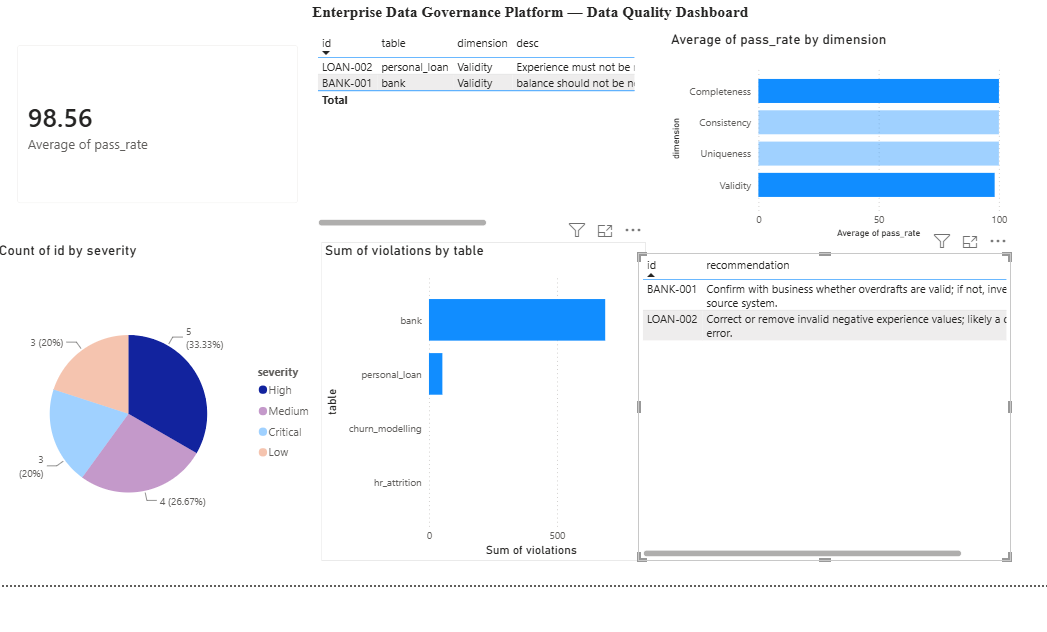

This screenshot's page, from the dashboard's own definition file:
{"tool":"powerbi","page":{"name":"Page 1","canvas":[1280,720],"ordinal":0},"visuals":[{"type":"cardVisual","fields":{"Data":["Avg(public quality_findings.pass_rate)"]},"box":[10.3,47.6,375.3,226.2],"z":0},{"type":"clusteredBarChart","fields":{"Category":["public quality_findings.dimension"],"Y":["Avg(public quality_findings.pass_rate)"]},"box":[814.8,47.6,417.7,255.7],"z":1000},{"type":"tableEx","fields":{"Values":["public quality_findings.id","public quality_findings.table","public quality_findings.dimension","public quality_findings.desc","public quality_findings.severity","Sum(public quality_findings.violations)","Sum(public quality_findings.pass_rate)"]},"box":[385.5,47.6,394.5,241.6],"z":2000},{"type":"clusteredBarChart","fields":{"Category":["public quality_findings.table"],"Y":["Sum(public quality_findings.violations)"]},"box":[395.8,303.3,394.5,386.8],"z":3000},{"type":"pieChart","fields":{"Category":["public quality_findings.severity"],"Y":["CountNonNull(public quality_findings.id)"]},"box":[0,303.3,395.8,386.8],"z":4000},{"type":"tableEx","fields":{"Values":["public quality_findings.id","public quality_findings.recommendation"]},"box":[780.1,316.1,452.4,374],"z":5000},{"type":"textbox","box":[318.7,9,660.6,38.6],"z":6000}]}

Visuals, with their boxes on the page's 1280x720 design canvas (x1, y1, x2, y2). These are canvas units, not pixel positions in the 1047x632 screenshot, which may show the page scaled, cropped or inside an application window:
cardVisual - Avg(public quality_findings.pass_rate): box(10, 48, 386, 274)
clusteredBarChart - public quality_findings.dimension x Avg(public quality_findings.pass_rate): box(815, 48, 1232, 303)
tableEx - public quality_findings.id x public quality_findings.table: box(386, 48, 780, 289)
clusteredBarChart - public quality_findings.table x Sum(public quality_findings.violations): box(396, 303, 790, 690)
pieChart - public quality_findings.severity x CountNonNull(public quality_findings.id): box(0, 303, 396, 690)
tableEx - public quality_findings.id x public quality_findings.recommendation: box(780, 316, 1232, 690)
textbox: box(319, 9, 979, 48)
